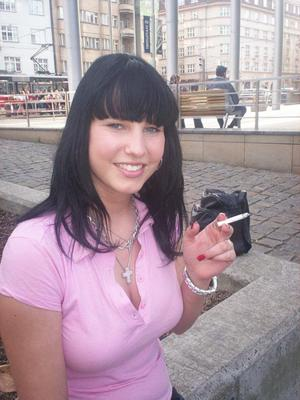person: (1, 51, 234, 398)
